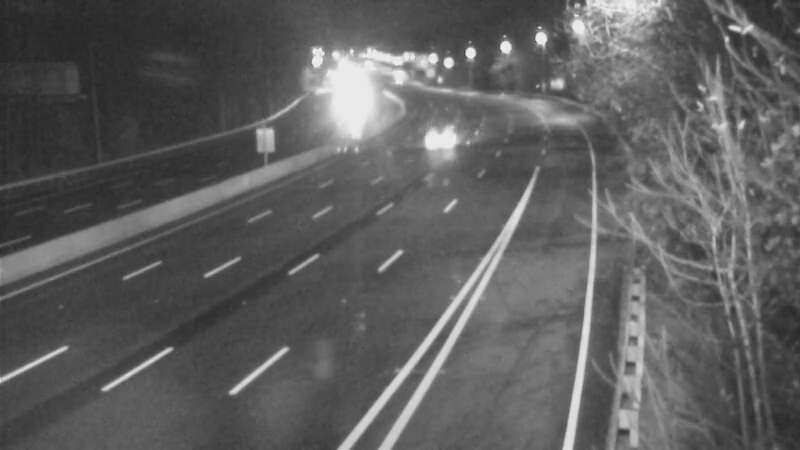vehicle: (409, 118, 459, 168)
